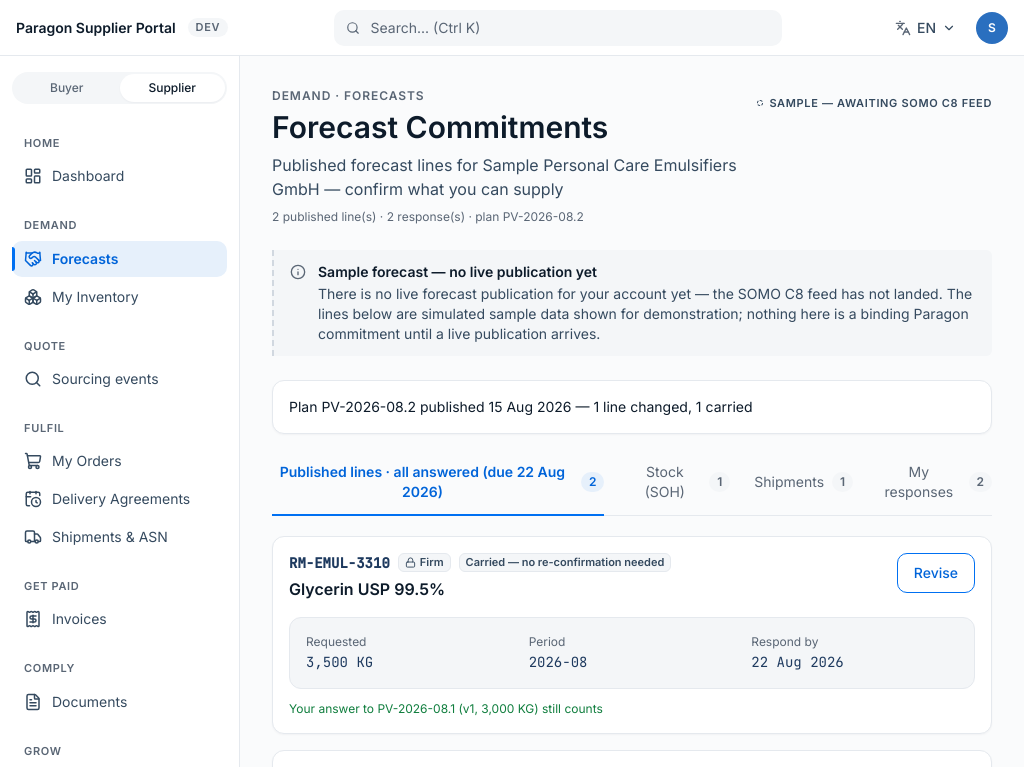
Test case: the narrowed seat — each verb renders its OWN pending-with-an-owner notice › ⚠️ …and the ARRIVE notice appears once the leg is Shipped — the withheld walk, too
Click the tab "Shipments 1": {"x": 804, "y": 483} [754,460,853,506]
(page scrolled)
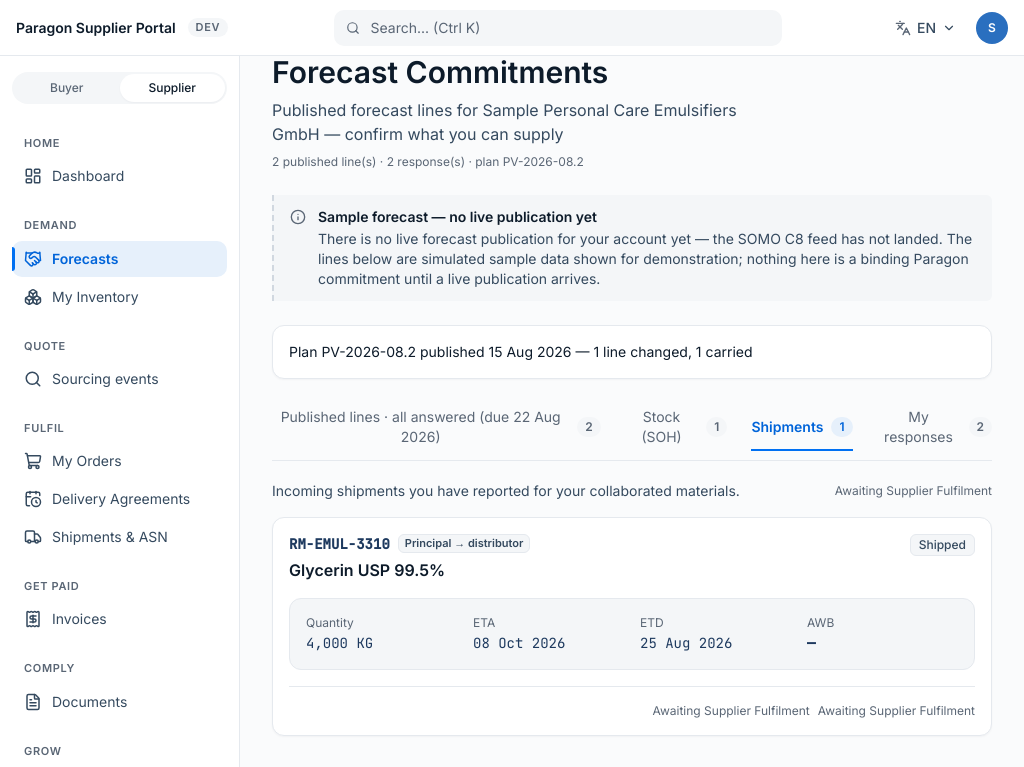
Check: the text with test id "handoff-incomingshipment-arrive" is shown, box [652,703,810,719]
Check: the text with test id "handoff-incomingshipment-cancel" is shown, box [818,703,975,719]
